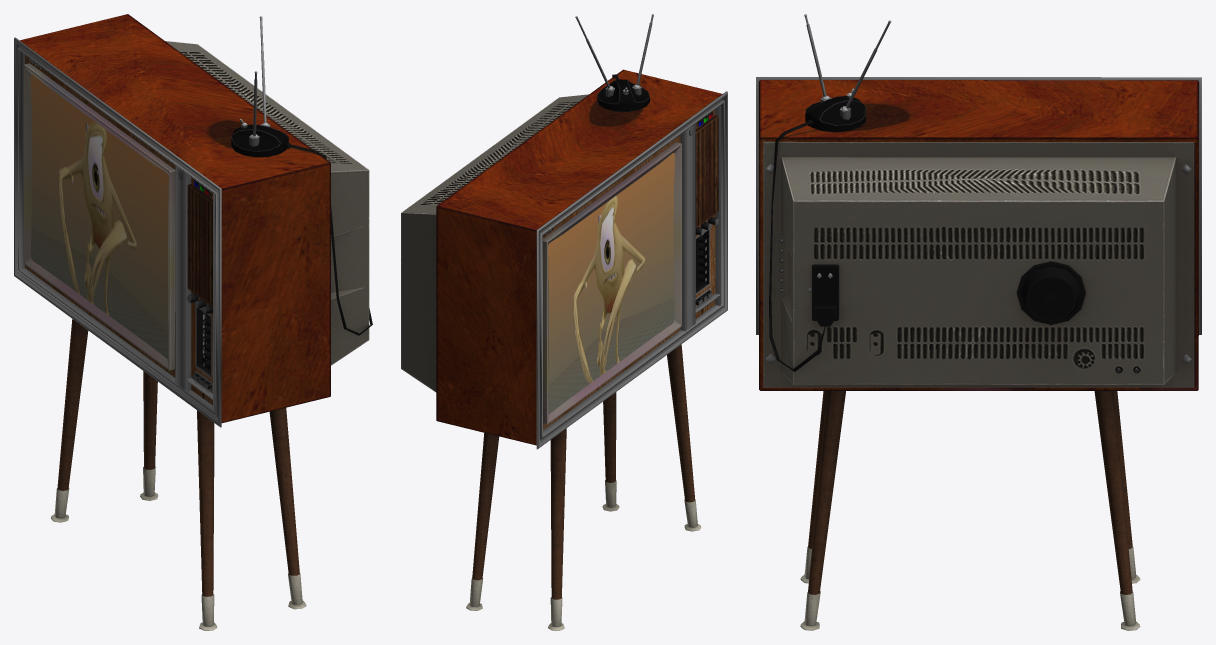
Rendered from oldtv.gltf.
3 renders of one model, left to right at view 1: azimuth 30°, elevation 25°; view 2: azimuth 150°, elevation 25°; view 3: azimuth 270°, elevation 25°, orthographic. The views are drawn at different scales.
Visible parts, largest first — view 1: Mesh_5, dddancescreen, Mesh_2, Mesh_0.001, Mesh_4, Mesh_3; view 2: Mesh_5, dddancescreen, Mesh_2, Mesh_0.001, Mesh_4, Mesh_3; view 3: Mesh_0.001, Mesh_5, Mesh_4, Mesh_2, Mesh_3.
Part boxes in pixels (<box>): Mesh_5: <box>20,14,330,422</box>; dddancescreen: <box>30,74,168,358</box>; Mesh_2: <box>14,37,221,427</box>; Mesh_0.001: <box>165,41,372,365</box>; Mesh_4: <box>51,319,306,630</box>; Mesh_3: <box>29,16,290,389</box>; Mesh_5: <box>436,69,722,445</box>; dddancescreen: <box>548,153,674,413</box>; Mesh_2: <box>536,91,727,449</box>; Mesh_0.001: <box>401,74,618,392</box>; Mesh_4: <box>466,344,701,630</box>; Mesh_3: <box>543,14,718,305</box>; Mesh_0.001: <box>763,122,1194,387</box>; Mesh_5: <box>759,80,1198,390</box>; Mesh_4: <box>800,391,1140,630</box>; Mesh_2: <box>756,77,1201,334</box>; Mesh_3: <box>804,14,891,132</box>.
Bounding box in the file's own units: 1.24 × 3.68 × 2.45.
Materials: 6 (6 with a texture image).
